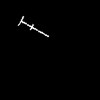double_crochet: (19, 16, 48, 36)
